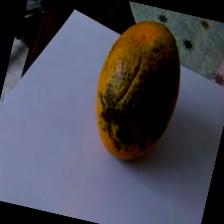Orange Rotten: (78, 5, 201, 175)
